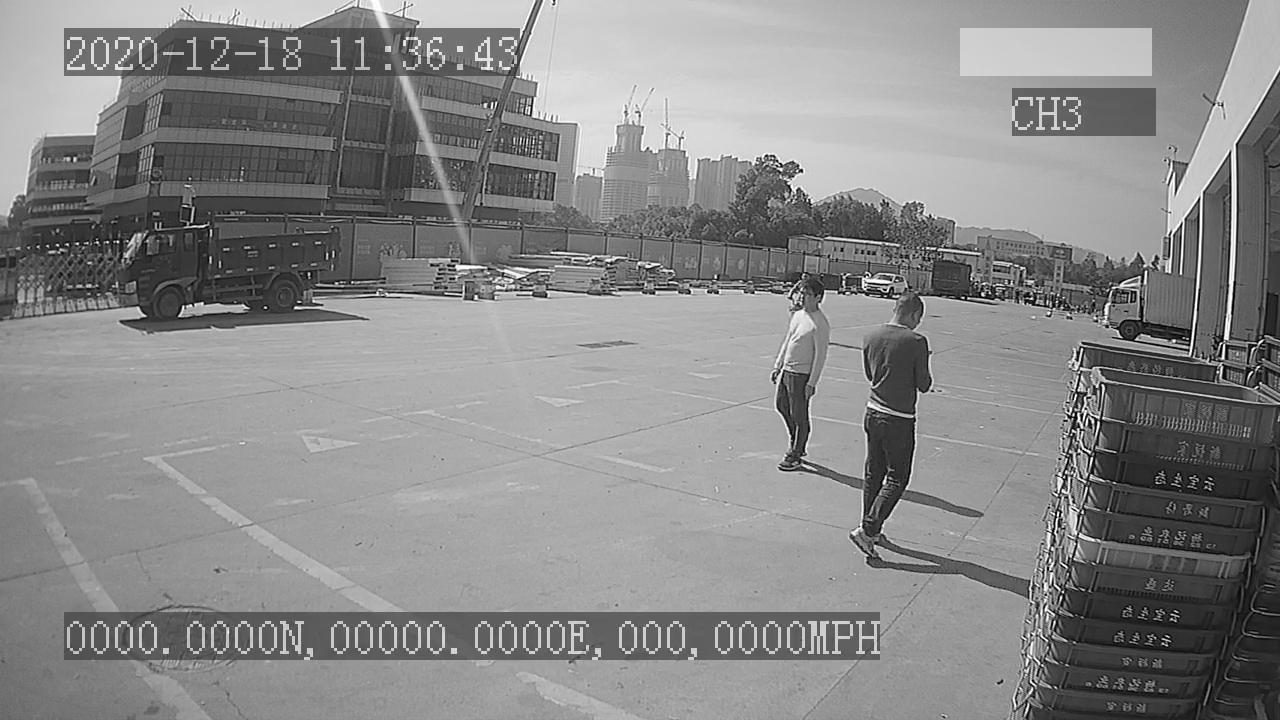person: (847, 293, 941, 562)
